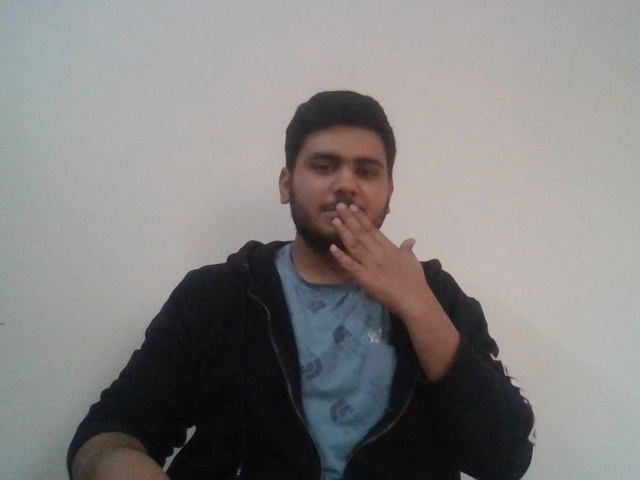Thanks: (288, 202, 436, 290)
